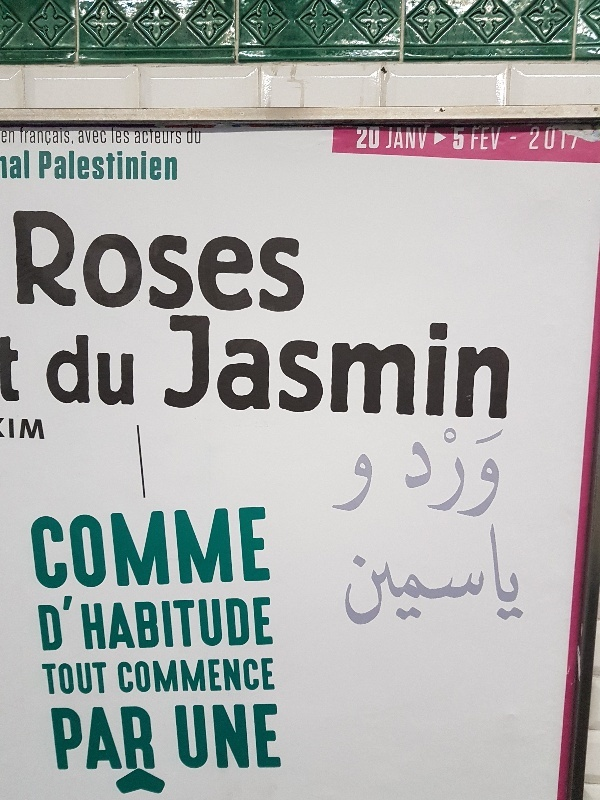text: (305, 207, 321, 315), (177, 312, 192, 421), (193, 312, 208, 421), (209, 312, 224, 421), (225, 312, 240, 421), (241, 312, 256, 421), (257, 312, 272, 421), (273, 312, 288, 421), (289, 312, 304, 421), (305, 312, 320, 421), (321, 312, 336, 421), (337, 312, 352, 421), (353, 312, 368, 421), (369, 312, 384, 421), (385, 312, 400, 421), (401, 312, 416, 421), (417, 312, 432, 421), (433, 312, 448, 421), (449, 312, 464, 421), (465, 312, 480, 421), (481, 312, 496, 421), (497, 312, 512, 421), (17, 207, 32, 315), (33, 207, 48, 315), (49, 207, 64, 315), (65, 207, 80, 315), (81, 207, 96, 315), (97, 207, 112, 315), (113, 207, 128, 315), (129, 207, 144, 315), (145, 207, 160, 315), (161, 207, 176, 315), (177, 207, 192, 315), (193, 207, 208, 315), (209, 207, 224, 315), (225, 207, 240, 315), (241, 207, 256, 315), (257, 207, 272, 315), (273, 207, 288, 315), (289, 207, 304, 315), (162, 312, 176, 421), (353, 526, 368, 627), (369, 526, 384, 627), (385, 526, 400, 627), (401, 526, 416, 627), (417, 526, 432, 627), (433, 526, 448, 627), (449, 526, 464, 627), (465, 526, 480, 627), (481, 526, 496, 627), (497, 526, 512, 627), (513, 526, 528, 627), (417, 425, 432, 524), (433, 425, 448, 524), (449, 425, 464, 524), (465, 425, 480, 524), (481, 425, 496, 524), (497, 425, 511, 524), (33, 506, 48, 591), (49, 506, 64, 591), (65, 506, 80, 591), (81, 506, 96, 591), (97, 506, 112, 591), (113, 506, 128, 591), (129, 506, 144, 591), (145, 506, 160, 591), (161, 506, 176, 591), (177, 506, 192, 591), (193, 506, 208, 591), (209, 506, 224, 591), (225, 506, 240, 591), (241, 506, 256, 591), (257, 506, 272, 591), (49, 334, 64, 406), (65, 334, 80, 406), (81, 334, 96, 406), (97, 334, 112, 406), (113, 334, 128, 406), (49, 705, 64, 773), (65, 705, 80, 773), (81, 705, 96, 773), (97, 705, 112, 773), (113, 705, 128, 773), (129, 705, 144, 773), (145, 705, 160, 773), (177, 703, 192, 769), (193, 703, 208, 769), (209, 703, 224, 769), (225, 703, 240, 769), (241, 703, 256, 769), (257, 703, 272, 769), (337, 452, 352, 514), (353, 452, 368, 514), (49, 594, 64, 653), (65, 594, 80, 653), (81, 594, 96, 653), (97, 594, 112, 653), (113, 594, 128, 653), (129, 594, 144, 653), (145, 594, 160, 653), (161, 594, 176, 653), (177, 594, 192, 653), (193, 594, 208, 653), (209, 594, 224, 653), (225, 594, 240, 653), (241, 594, 256, 653), (257, 594, 272, 653), (34, 594, 48, 653), (4, 337, 16, 405), (408, 425, 416, 524), (345, 526, 352, 627), (25, 506, 32, 591), (273, 703, 282, 769), (129, 656, 144, 694), (145, 656, 160, 694), (161, 656, 176, 694), (177, 656, 192, 694), (193, 656, 208, 694), (209, 656, 224, 694), (225, 656, 240, 694), (241, 656, 256, 694), (257, 656, 272, 694), (17, 337, 25, 405), (49, 662, 64, 698), (65, 662, 80, 698), (81, 662, 96, 698), (97, 662, 110, 698), (49, 150, 64, 181), (65, 150, 80, 181), (81, 150, 96, 181), (97, 150, 112, 181), (113, 150, 128, 181), (129, 150, 144, 181), (145, 150, 160, 181), (161, 150, 176, 181), (116, 656, 128, 694), (1, 150, 16, 180), (529, 123, 544, 152), (545, 123, 560, 152), (561, 123, 576, 152), (329, 452, 336, 514), (12, 207, 16, 315), (129, 334, 135, 406), (17, 150, 31, 180), (33, 415, 49, 441), (481, 126, 496, 152), (17, 415, 32, 441), (369, 452, 375, 514), (401, 126, 416, 150), (273, 594, 279, 653), (355, 124, 368, 150), (369, 124, 381, 150), (387, 126, 400, 150), (38, 150, 48, 181), (33, 126, 48, 146), (49, 126, 64, 146), (417, 126, 429, 150), (453, 126, 464, 151), (113, 127, 128, 145), (172, 703, 176, 769), (6, 415, 16, 441), (41, 662, 48, 698), (145, 129, 160, 145), (161, 129, 176, 145), (20, 126, 32, 146), (471, 126, 480, 152), (81, 130, 96, 145), (1, 130, 16, 144), (497, 126, 505, 152), (577, 123, 584, 152), (65, 126, 74, 146), (97, 130, 108, 145), (193, 127, 202, 145), (134, 129, 144, 145), (273, 656, 277, 694), (46, 334, 48, 406), (161, 705, 163, 773), (529, 526, 530, 627), (177, 129, 183, 145), (187, 127, 192, 145), (47, 705, 48, 773), (513, 134, 518, 142), (508, 134, 512, 142), (177, 150, 178, 181), (78, 130, 80, 145), (527, 123, 528, 152), (465, 126, 466, 151), (111, 127, 112, 145), (129, 127, 130, 145)
